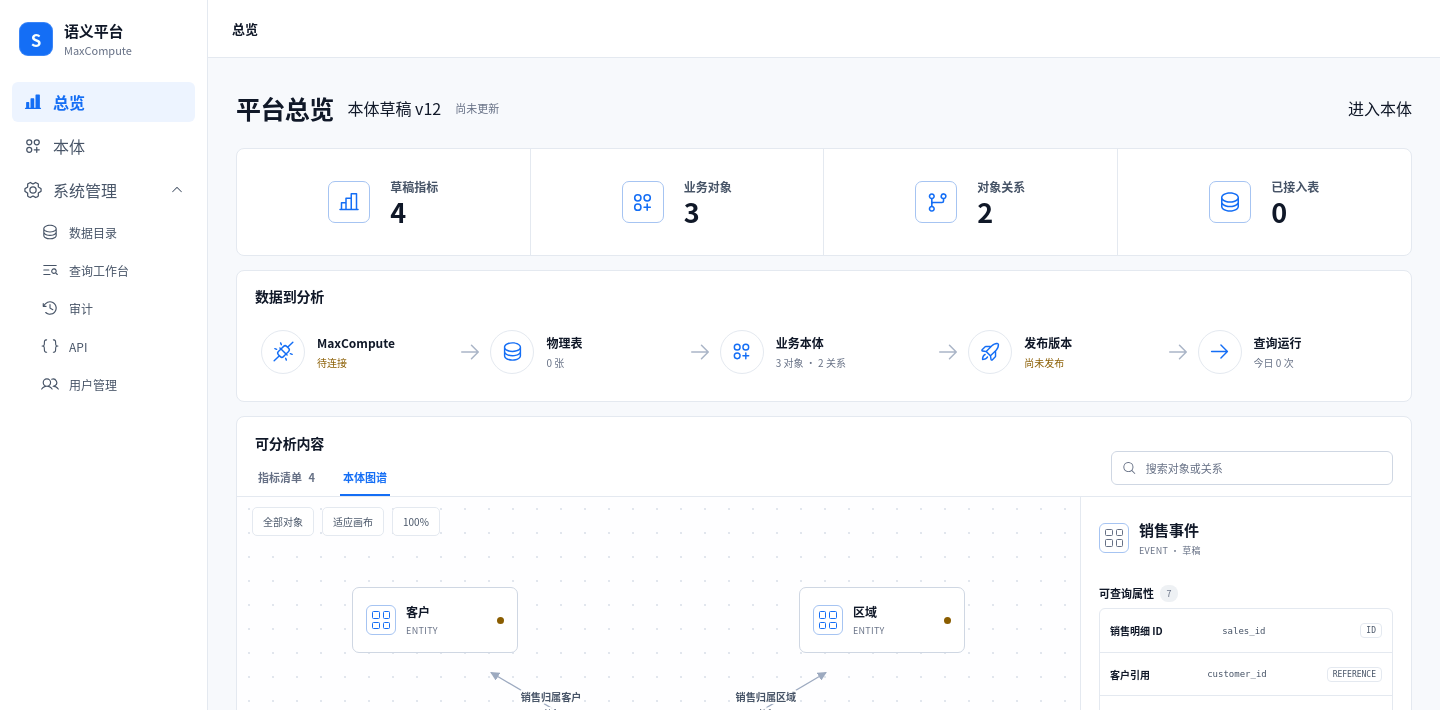
Scenario: independent platform shell › shows live ontology content in the dashboard graph
Expected: the text "4" below "草稿指标" is shown, [390,192,405,231]
Click the button with aria-label "查看客户". click: [435, 620]
box: [352,587,518,653]
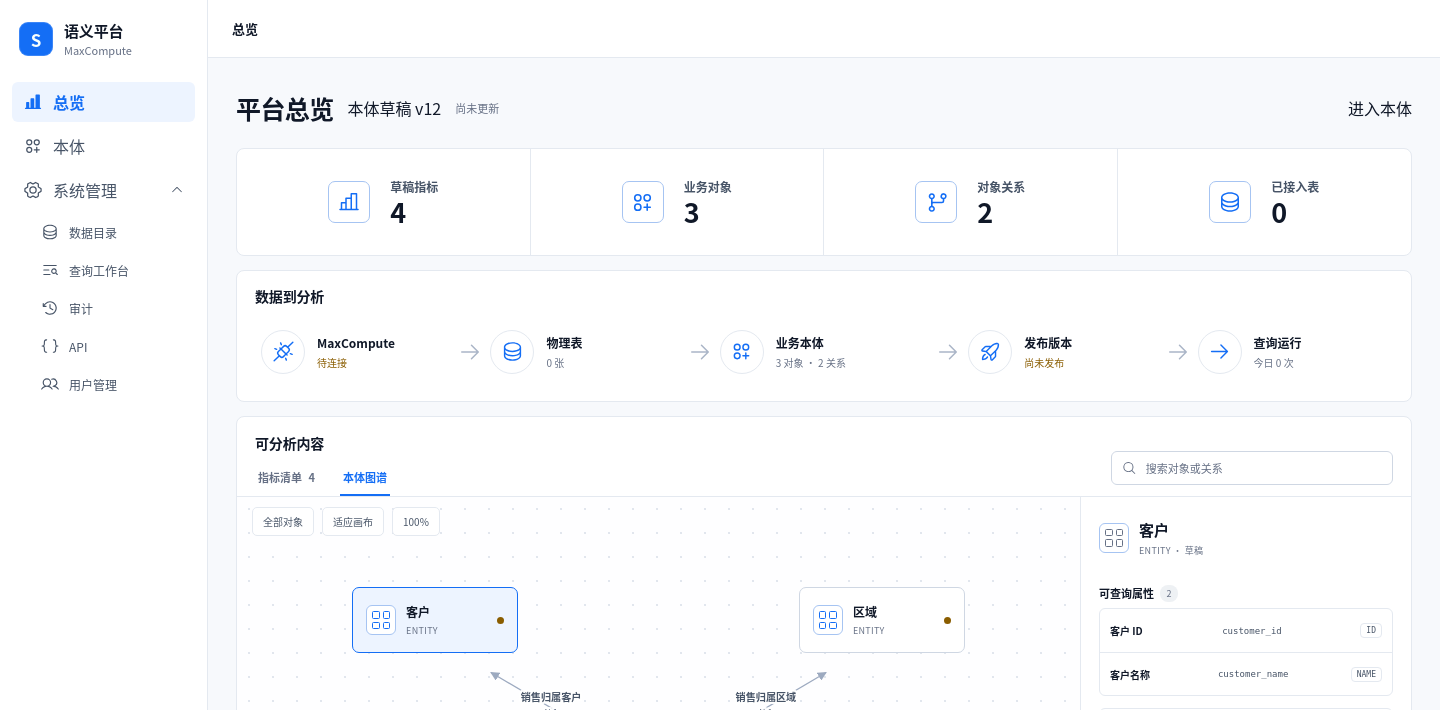
Expected: the text "客户 ID" is shown, [1110,623,1143,638]
Expected: the text "客户名称" is shown, [1110,666,1150,682]
Click the tab "指标清单 4". click: [286, 478]
box: [255,460,318,496]
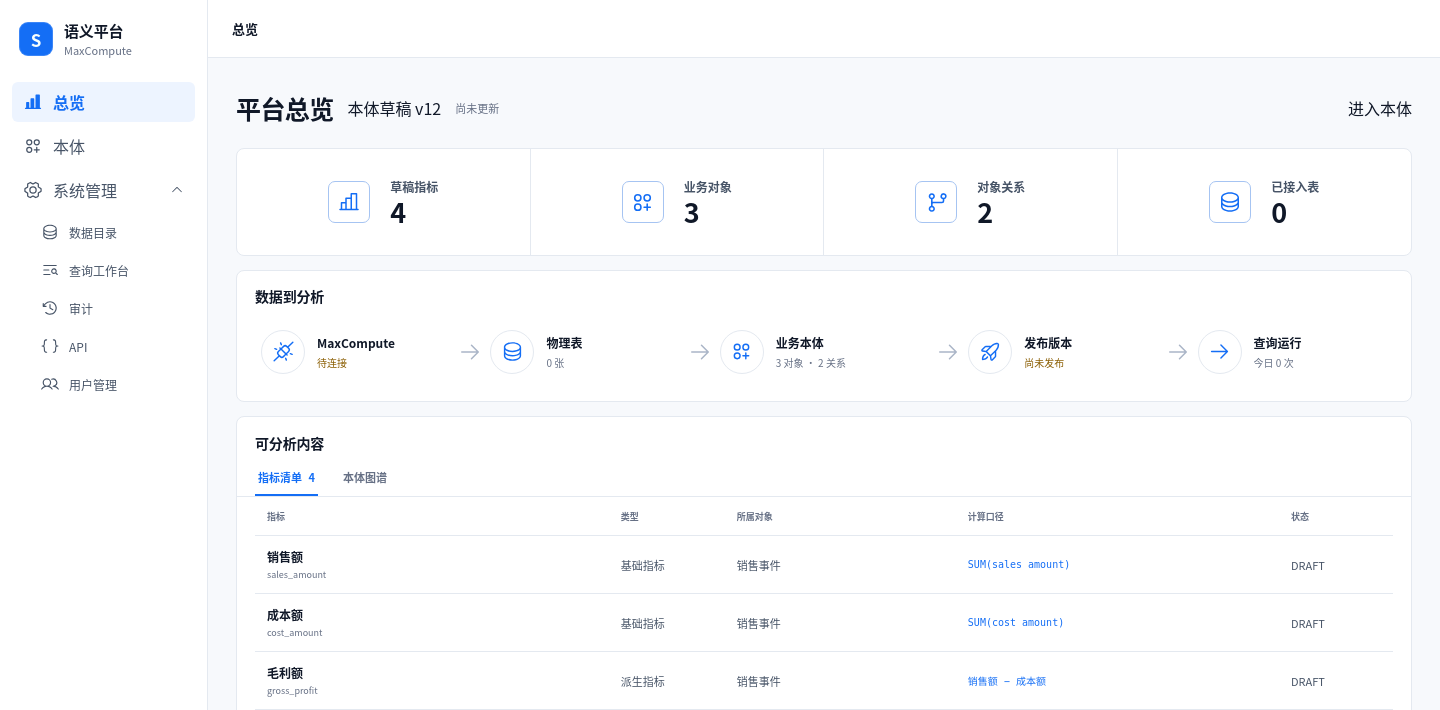
Expected: the button "销售额 sales_amount 基础指标 销售事件 SUM(sales_amount) DRAFT" is shown, [255,536,1393,594]
